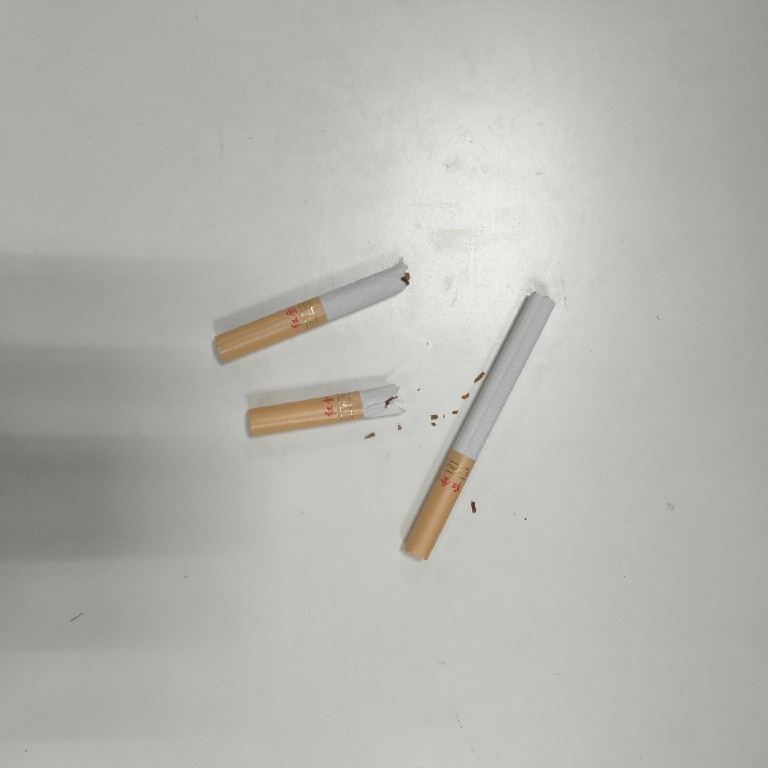cigarette: (398, 289, 557, 565), (210, 259, 415, 365), (240, 378, 406, 442)
